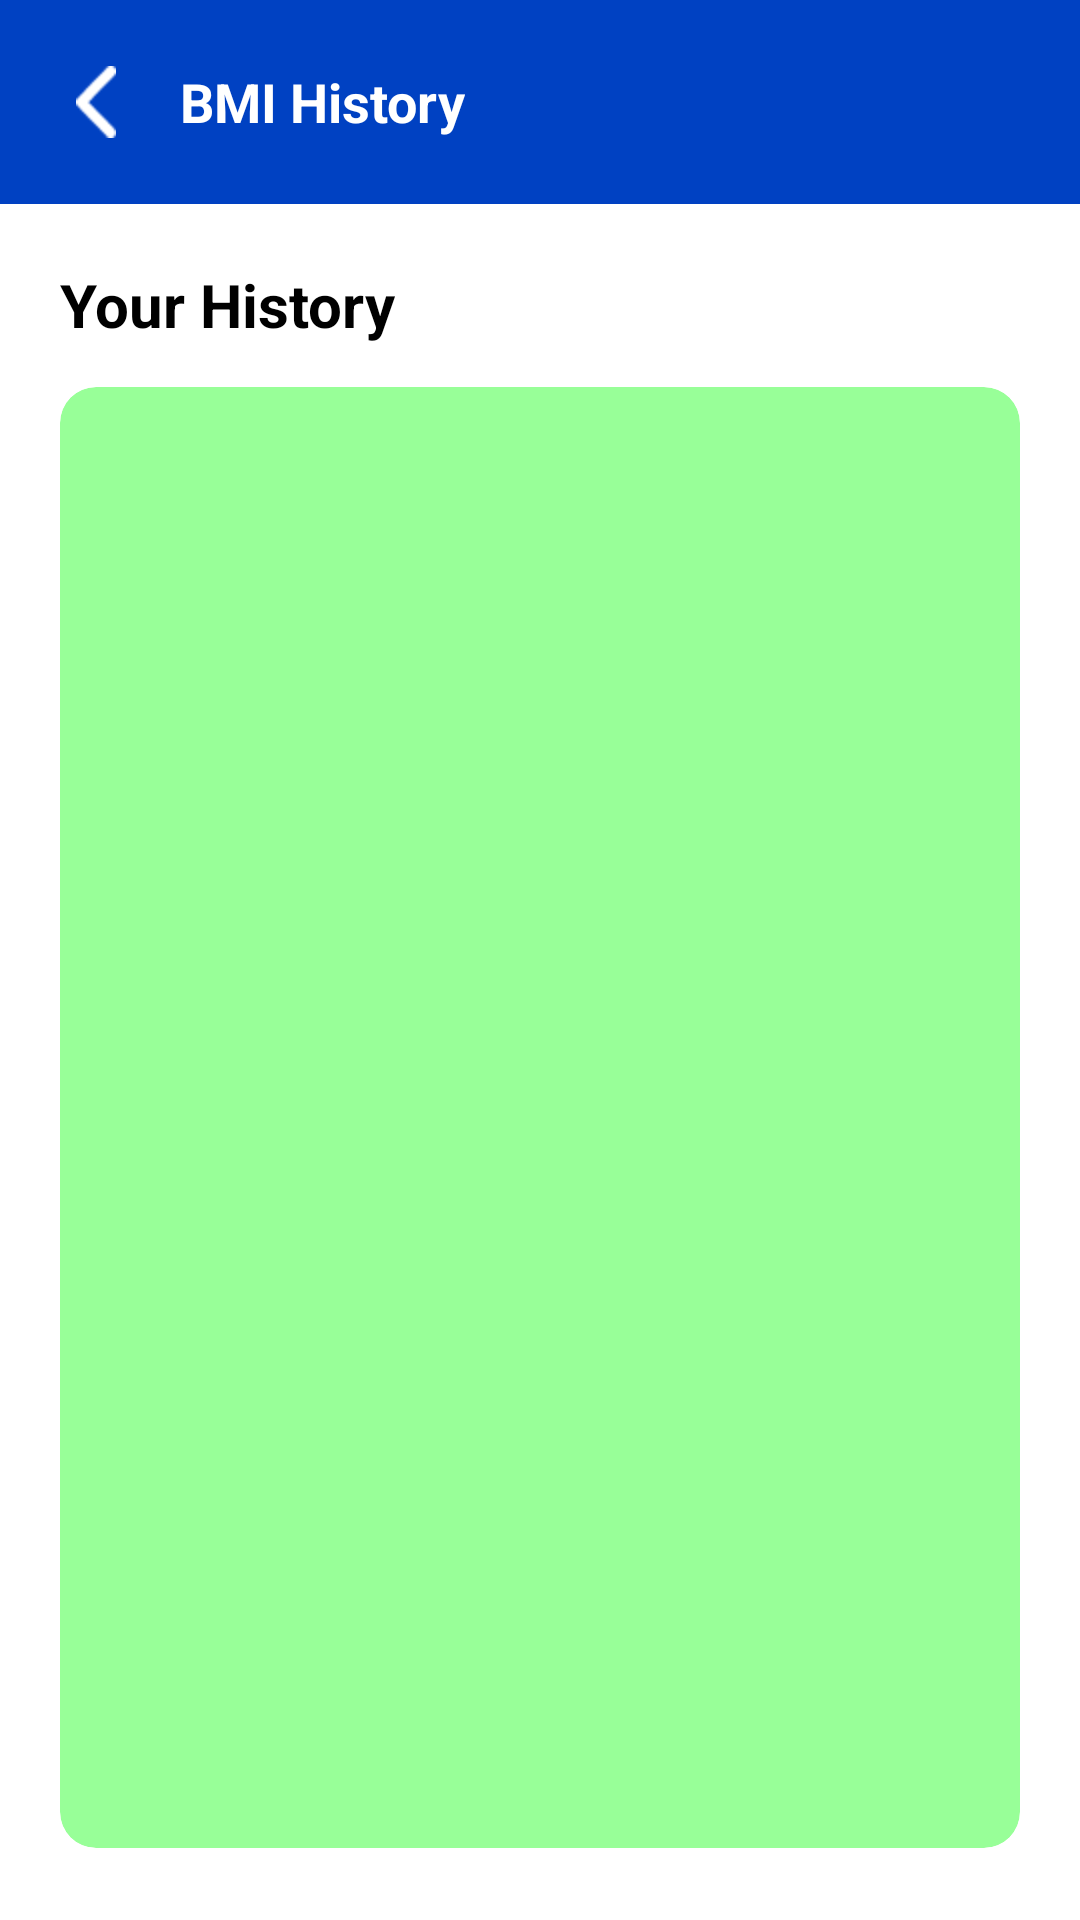

Where icons sit on this 1080 × 1920 app screen, as (x1, y1, x2, y2):
Back: (76, 66, 116, 138)
